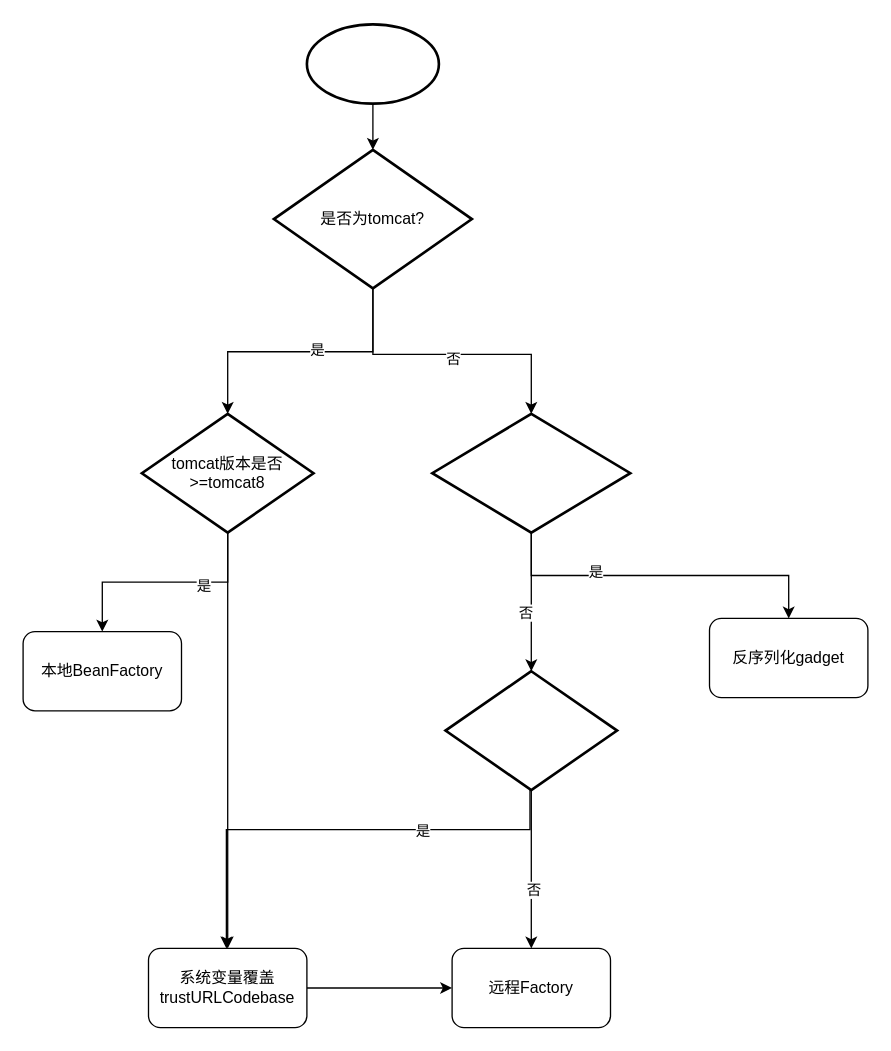
This 891x1051 diagram has some shape labels left out. Here are the shapes that lost their labels. From the top down, the box of each, then its label:
(305, 22, 440, 104): JNDI注入
(430, 412, 631, 533): 是否包含反序列化 gadget依赖库?
(444, 669, 618, 791): JDK是否为 已打补丁版本
